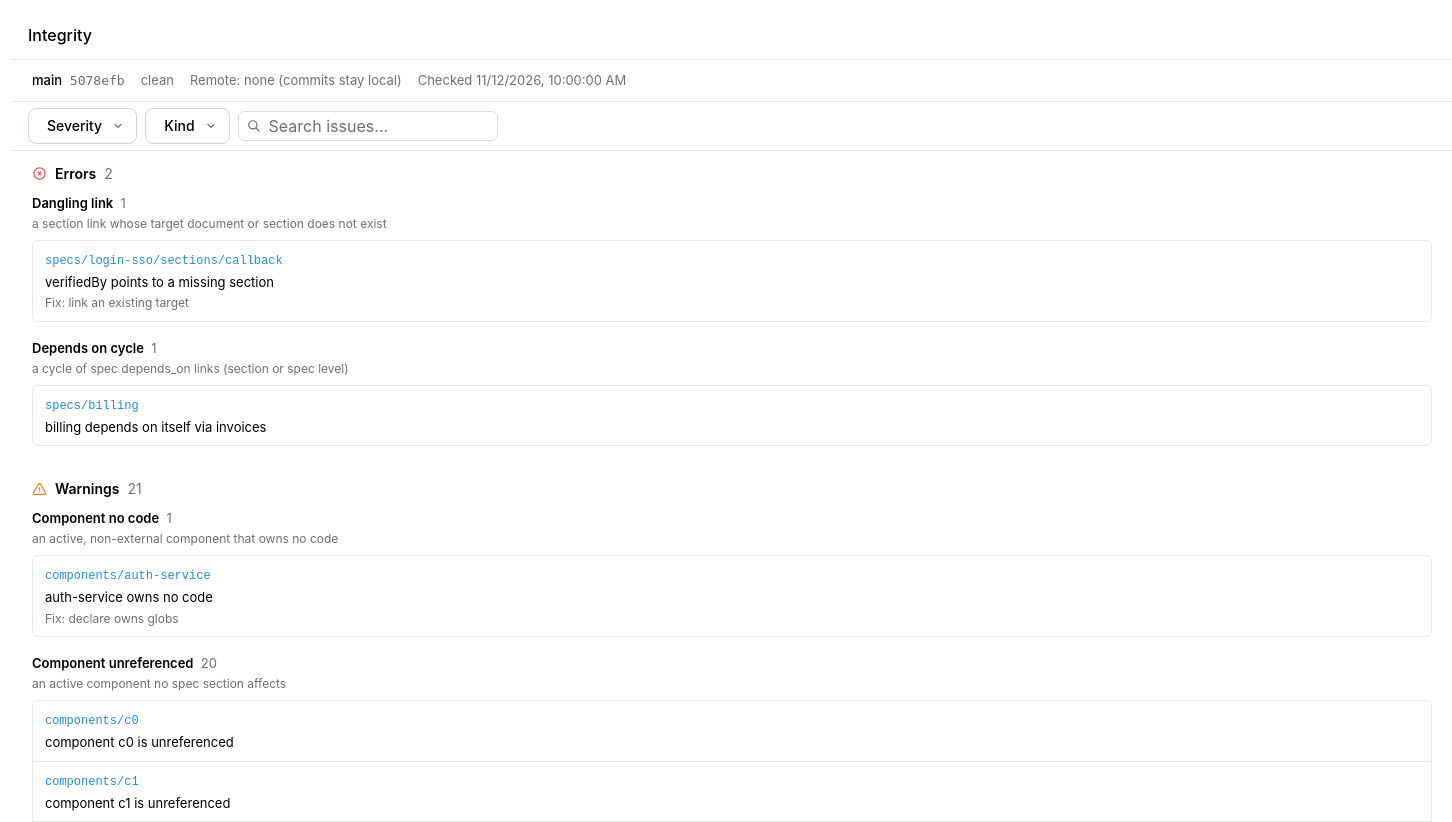
it: integrity view (S1) › lists every issue grouped by severity and kind, with message, hint and element link
Check: the heading "Dangling link 1" is shown, box [32,195,126,211]
Check: the text "verifiedBy points to a missing section" is shown, box [45,274,274,290]
Click the link "specs/login-sso/sections/callback": (164, 261) [45,254,283,268]
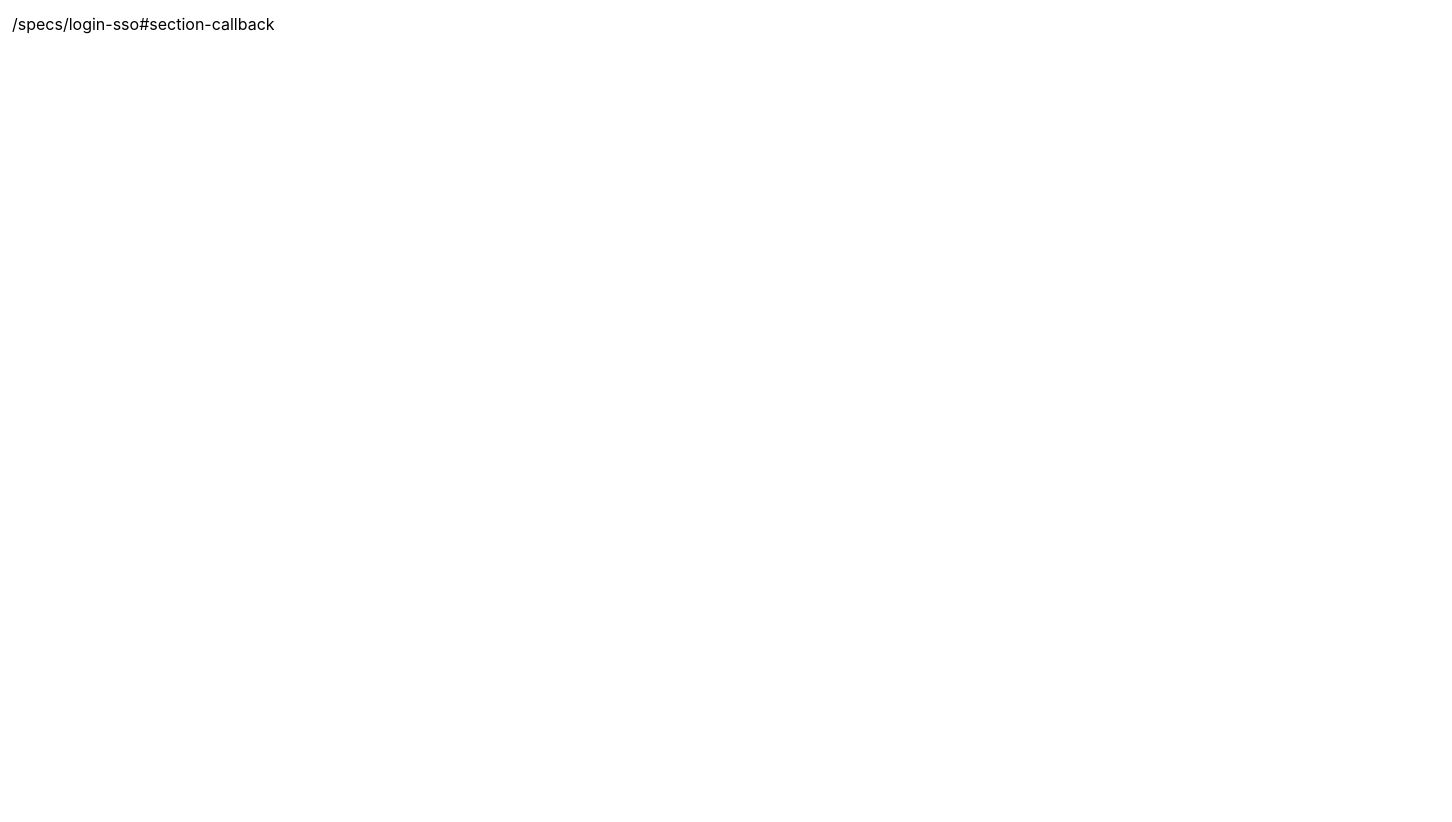
Check: the text with test id "where" reads "/specs/login-sso#section-callback", box [12,14,275,34]
